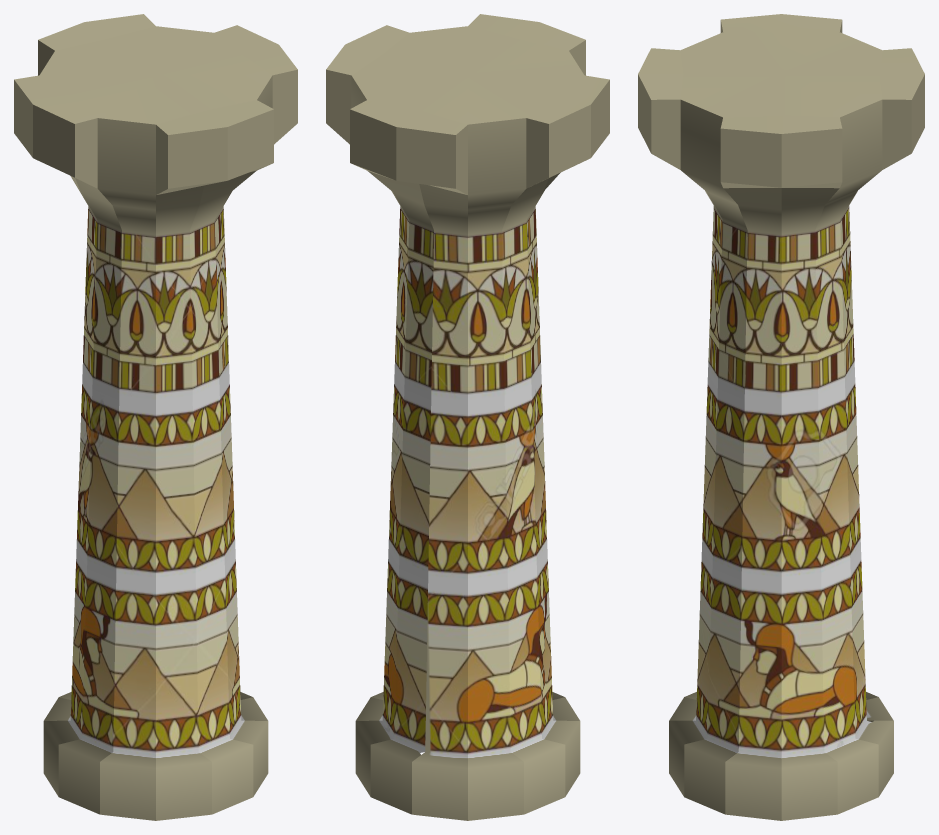
File: pillar.fbx
The picture shows the model from 3 angles, left to right: view 1: azimuth 30°, elevation 25°; view 2: azimuth 150°, elevation 25°; view 3: azimuth 270°, elevation 25°; orthographic projection.
Visible parts, largest first — view 1: pCylinder1; view 2: pCylinder1; view 3: pCylinder1.
Boxes of the visible parts, x1,y1,x2,y2 form: pCylinder1: [14, 14, 297, 820]; pCylinder1: [326, 14, 609, 820]; pCylinder1: [638, 14, 924, 820].
Size of the model in its own units: 4.19 by 11.39 by 4.23.
